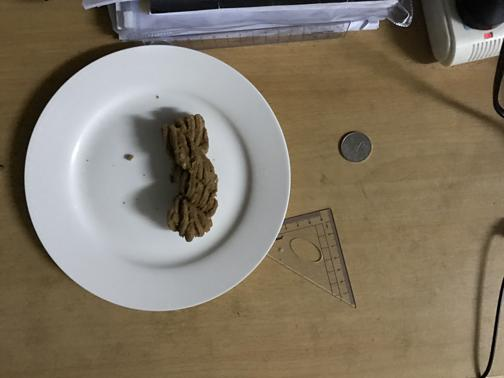coin: (337, 128, 371, 162)
fired_dough_twist: (162, 113, 218, 239)
